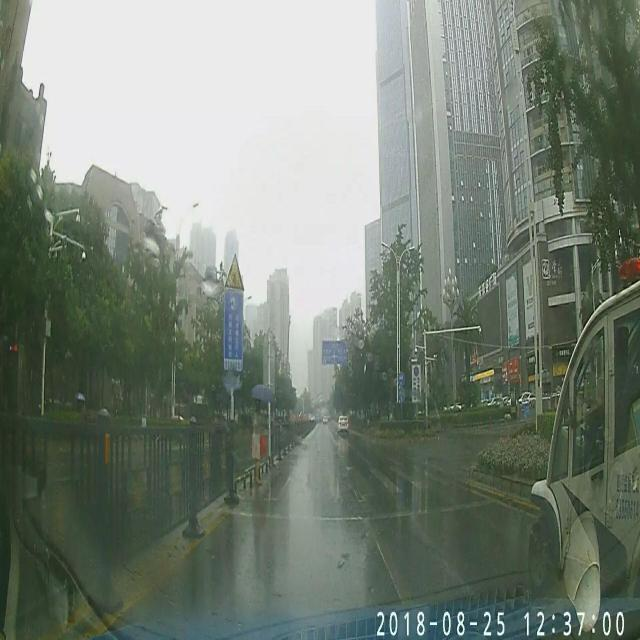car: (528, 257, 636, 620), (336, 414, 348, 432)
